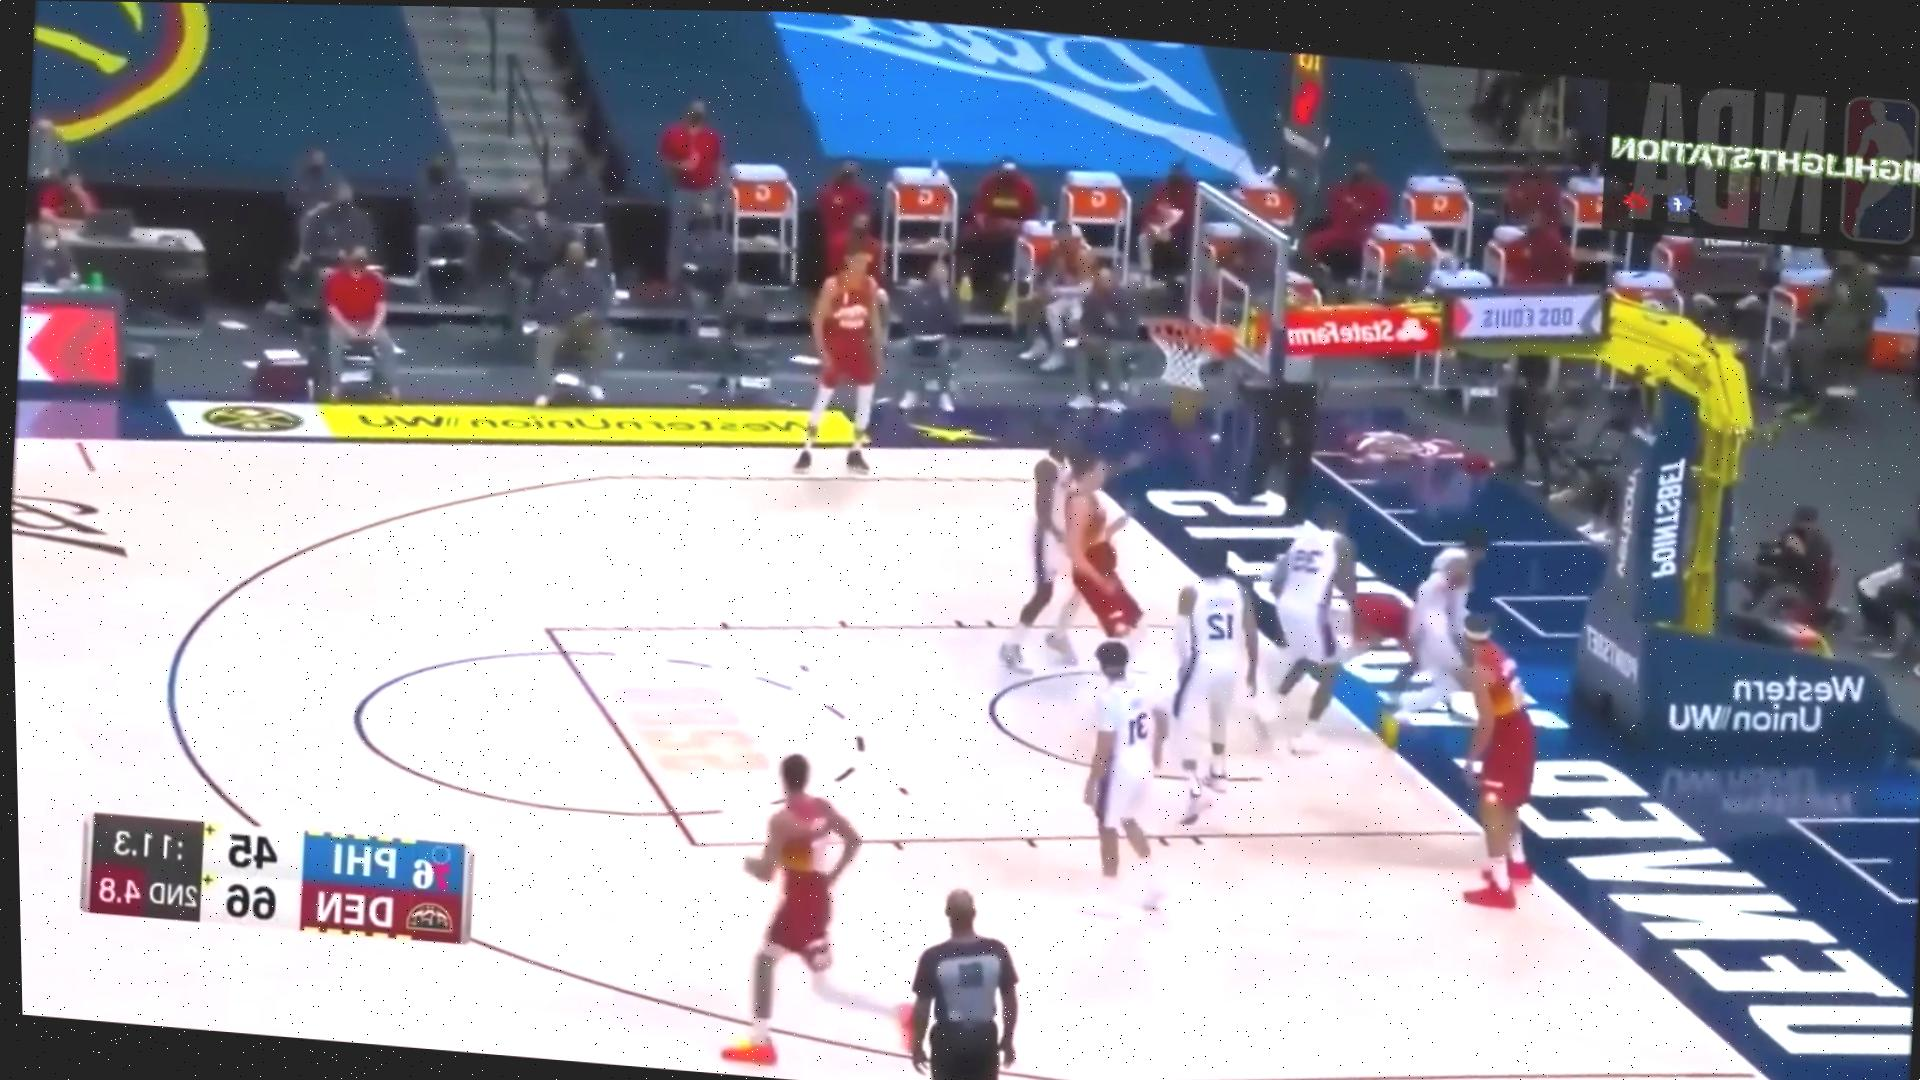no_foul: (977, 415, 1153, 686)
